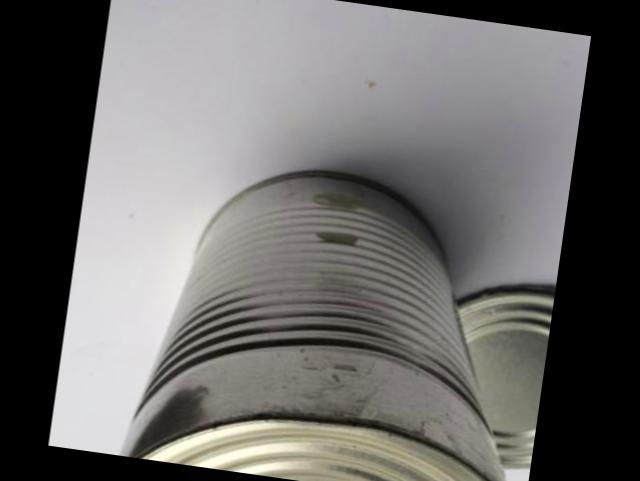metal: (125, 173, 556, 481)
